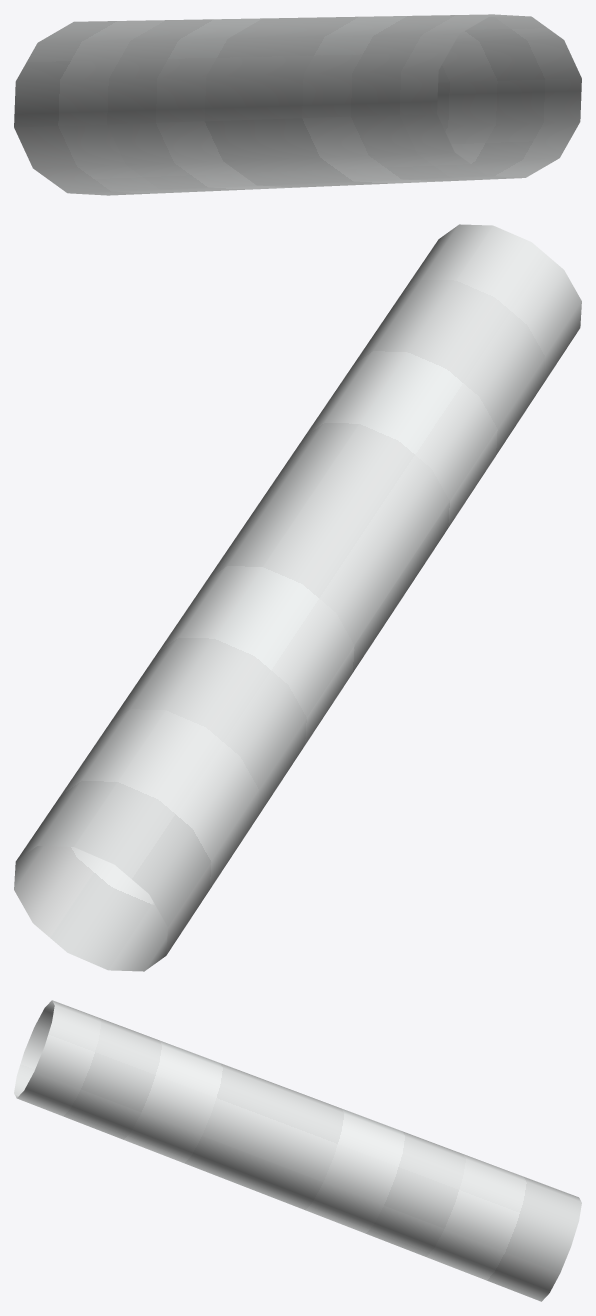
The model's file is luminairearm_caltrans10ftstraightdouble_c8.obj.
3 renders of one model, top to bottom at view 1: azimuth 30°, elevation 25°; view 2: azimuth 150°, elevation 25°; view 3: azimuth 270°, elevation 25°, orthographic. The views are drawn at different scales.
Parts seen in each view (by area): view 1: luminairearm_caltrans10ftstraightdouble_c8; view 2: luminairearm_caltrans10ftstraightdouble_c8; view 3: luminairearm_caltrans10ftstraightdouble_c8.
Boxes of the visible parts, x1,y1,x2,y2 form: luminairearm_caltrans10ftstraightdouble_c8: (14, 14, 581, 195); luminairearm_caltrans10ftstraightdouble_c8: (14, 224, 581, 971); luminairearm_caltrans10ftstraightdouble_c8: (14, 1000, 581, 1301).
Bounding box in the file's own units: 0.2125 × 0.6104 × 1.08.
